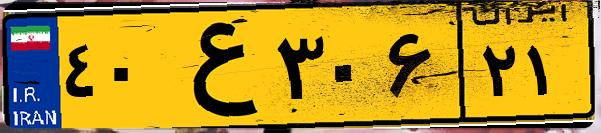0: (330, 28, 385, 110), (110, 28, 158, 98)
1: (525, 38, 570, 115)
2: (475, 38, 525, 113)
3: (270, 28, 330, 110)
4: (57, 26, 110, 100)
6: (385, 28, 445, 110)
ع: (158, 12, 270, 120)
